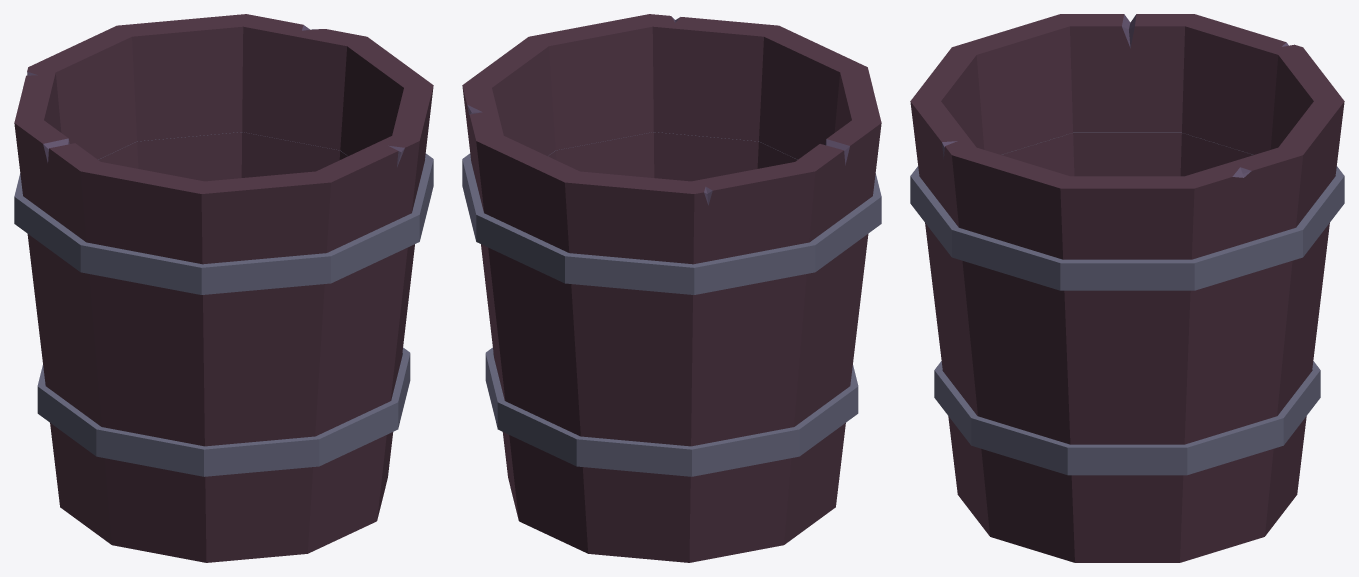
File: Bucket.fbx
The picture shows the model from 3 angles, left to right: view 1: azimuth 30°, elevation 25°; view 2: azimuth 150°, elevation 25°; view 3: azimuth 270°, elevation 25°; orthographic projection.
Parts seen in each view (by area): view 1: Cylinder; view 2: Cylinder; view 3: Cylinder.
Boxes of the visible parts, bbox=[...] form: Cylinder: bbox=[14, 14, 433, 562]; Cylinder: bbox=[462, 14, 881, 562]; Cylinder: bbox=[910, 14, 1344, 562].
Bounding box in the file's own units: 57.06 × 60 × 60.
